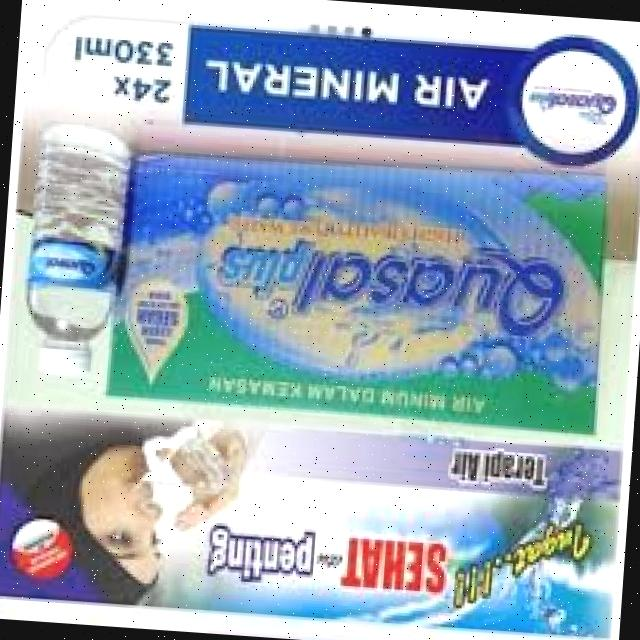bottle: (15, 116, 128, 384)
cap: (34, 344, 101, 379)
label: (29, 237, 118, 296)
